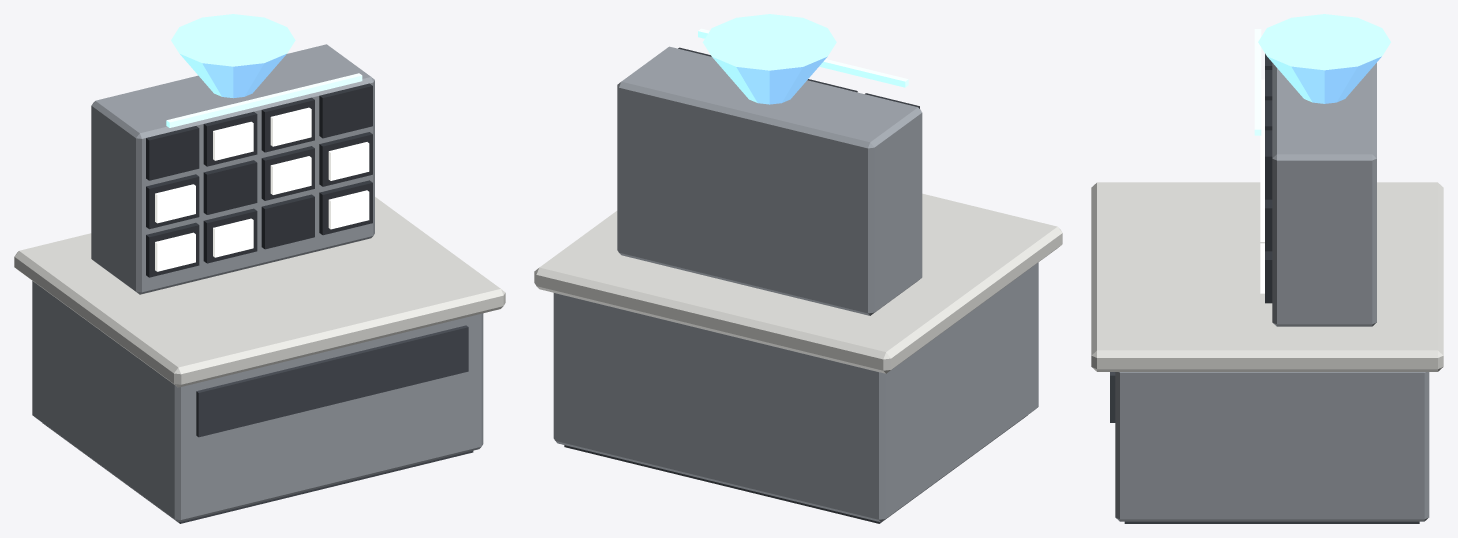
The model's file is autoreply_p1_4.glb.
3 views of the same model, side by side, from view 1: azimuth 30°, elevation 25°; view 2: azimuth 150°, elevation 25°; view 3: azimuth 270°, elevation 25° (orthographic). The views are drawn at different scales.
Visible parts, largest first — view 1: autoreply_p1_4_mesh_Desk, autoreply_p1_4_mesh; view 2: autoreply_p1_4_mesh_Desk, autoreply_p1_4_mesh; view 3: autoreply_p1_4_mesh_Desk, autoreply_p1_4_mesh.
Boxes of the visible parts, left/top/right/bottom form: autoreply_p1_4_mesh_Desk: left=14, top=197, right=505, bottom=523; autoreply_p1_4_mesh: left=91, top=14, right=374, bottom=294; autoreply_p1_4_mesh_Desk: left=534, top=193, right=1062, bottom=523; autoreply_p1_4_mesh: left=617, top=14, right=922, bottom=315; autoreply_p1_4_mesh_Desk: left=1091, top=182, right=1443, bottom=523; autoreply_p1_4_mesh: left=1254, top=14, right=1390, bottom=326.
Size of the model in its own units: 0.86 by 0.94 by 0.74.
